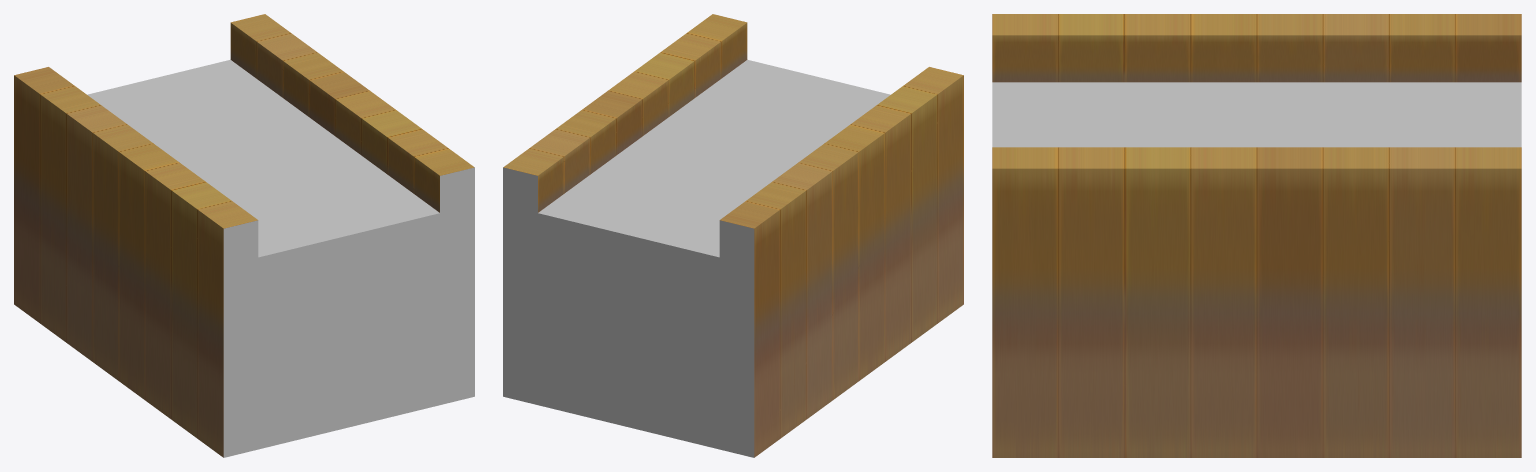
The model's file is Bridge01_b01_col.FBX.
3 views of the same model, side by side, from view 1: azimuth 30°, elevation 25°; view 2: azimuth 150°, elevation 25°; view 3: azimuth 270°, elevation 25° (orthographic). The views are drawn at different scales.
Parts seen in each view (by area): view 1: Bridge01_b01_col; view 2: Bridge01_b01_col; view 3: Bridge01_b01_col.
Part boxes in pixels (x1=…): Bridge01_b01_col: x1=14, y1=14, x2=474, y2=457; Bridge01_b01_col: x1=503, y1=14, x2=963, y2=457; Bridge01_b01_col: x1=992, y1=14, x2=1521, y2=457.
Bounding box in the file's own units: 985 × 860 × 1425.
